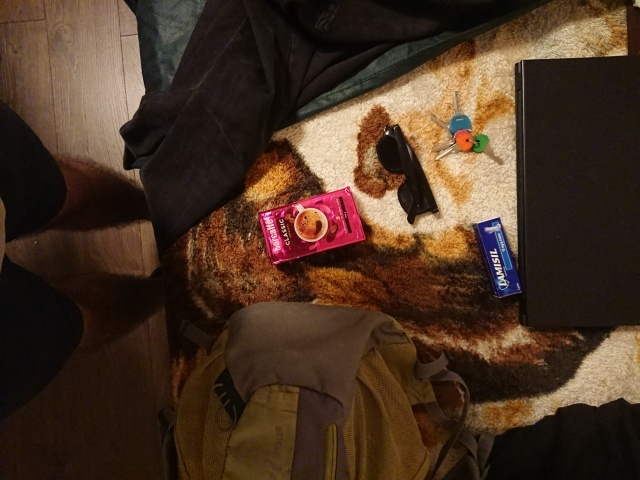Barcaffe Classic Original 225g: (256, 184, 368, 268)
